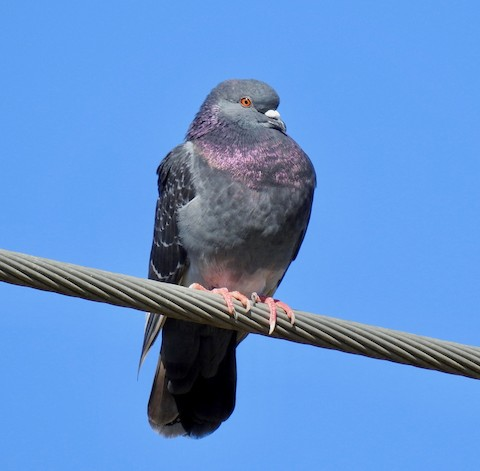pigeon: (136, 73, 320, 441)
